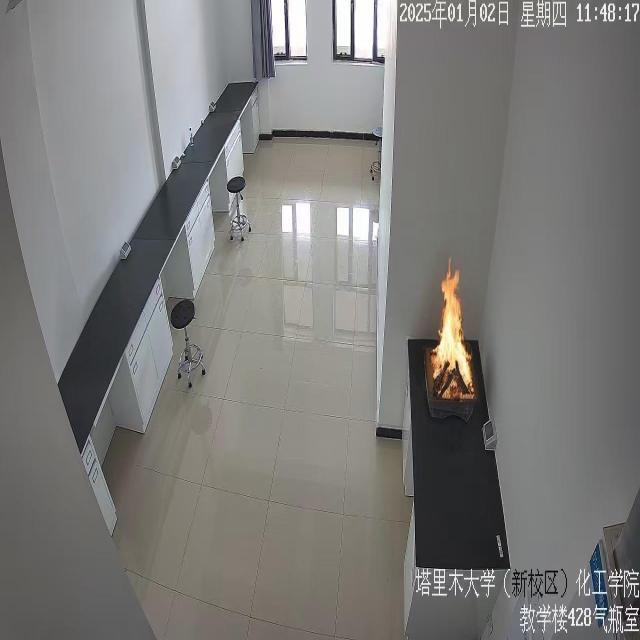smoke: (429, 260, 477, 398)
